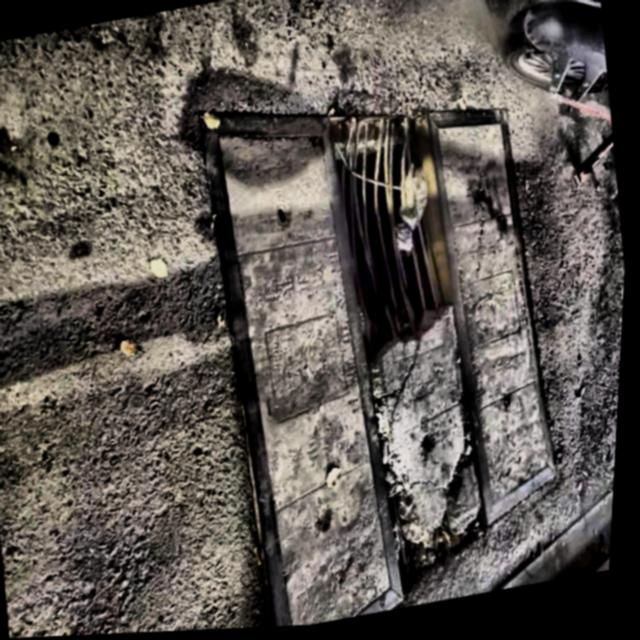open_manhole: (197, 108, 553, 627)
